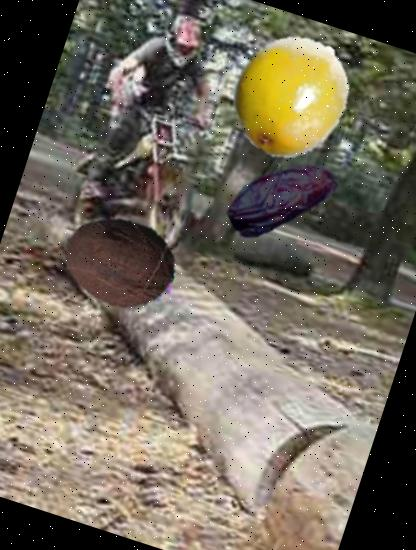Cocos: (48, 190, 190, 332)
Dates: (209, 125, 354, 269)
Maracuja: (208, 13, 366, 171)
